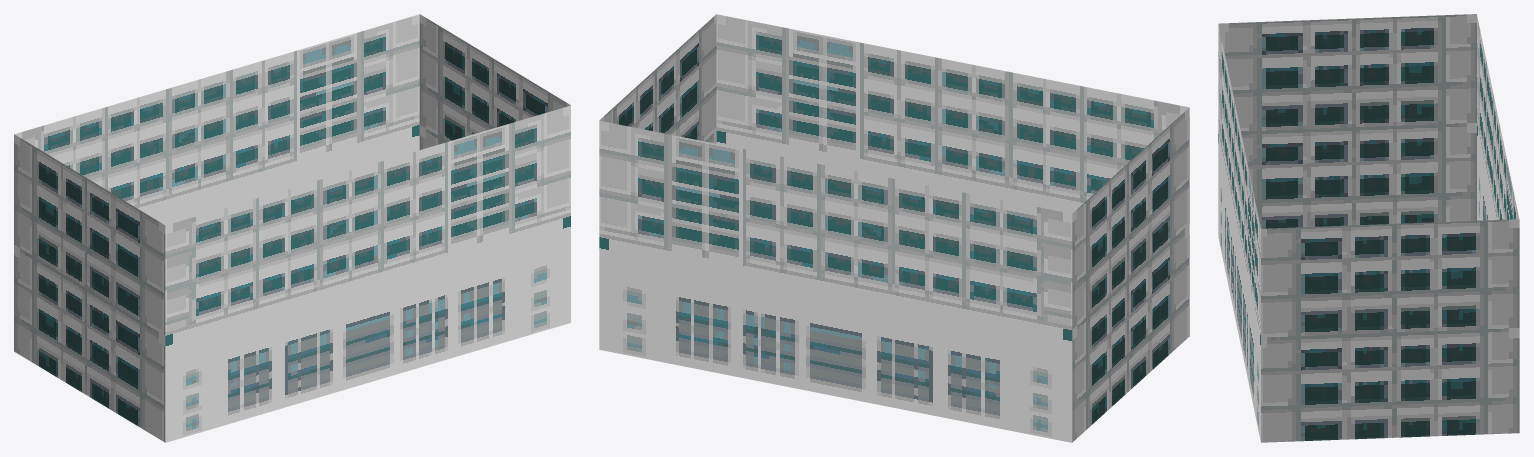
The picture shows the model from 3 angles, left to right: view 1: azimuth 30°, elevation 25°; view 2: azimuth 150°, elevation 25°; view 3: azimuth 270°, elevation 25°; orthographic projection. The views are drawn at different scales.
Visible parts, largest first — view 1: obj-85; view 2: obj-85; view 3: obj-85.
Boxes of the visible parts, x1=… form: obj-85: x1=14, y1=14, x2=570, y2=442; obj-85: x1=599, y1=14, x2=1189, y2=442; obj-85: x1=1218, y1=14, x2=1519, y2=442.
Size of the model in its own units: 5.53 by 2.57 by 3.27.
Materials: 1 (1 with a texture image).
